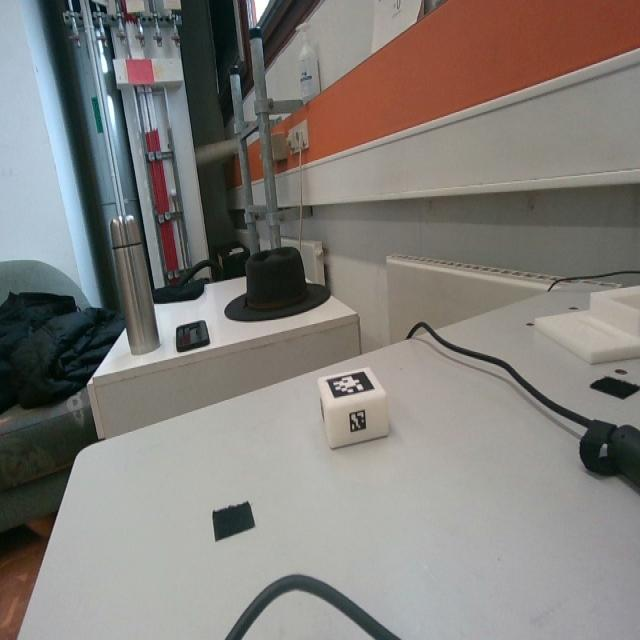Cube: (316, 366, 387, 450)
